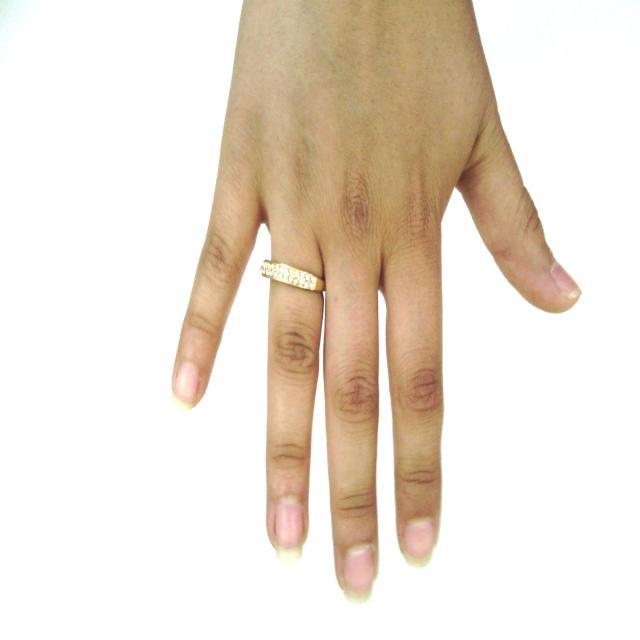Fingernail: (343, 545, 375, 602), (275, 501, 304, 561), (402, 518, 434, 568), (172, 363, 201, 410), (552, 264, 582, 298)
